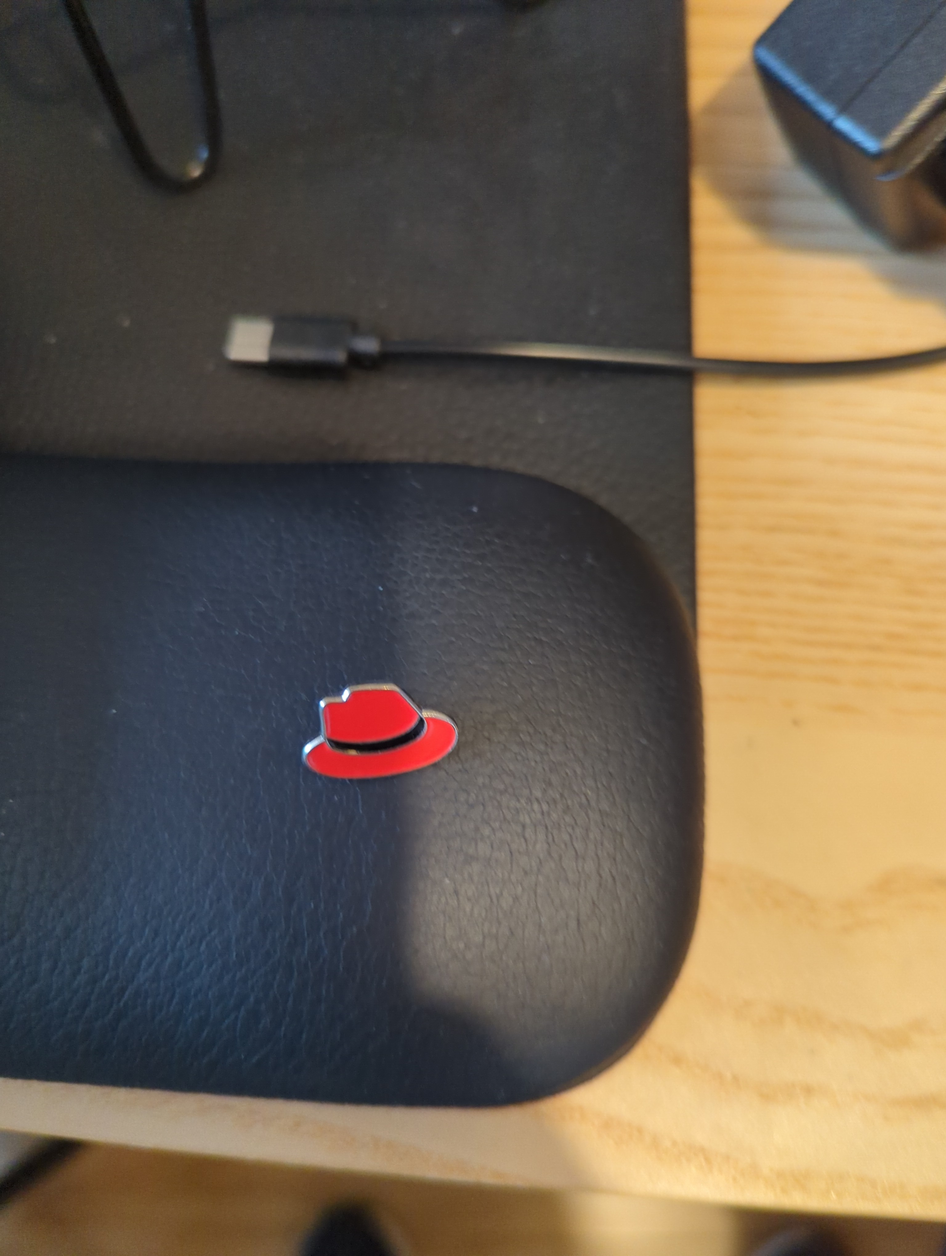Red-Hat: (250, 642, 567, 890)
